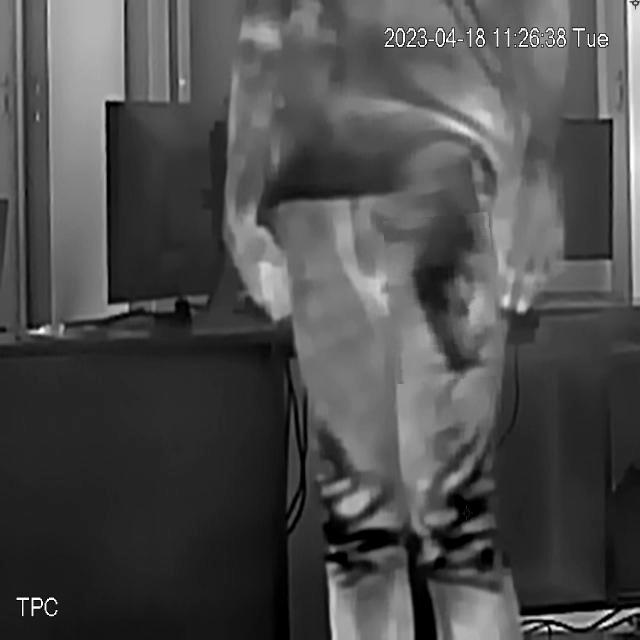Weapon: (387, 214, 499, 382)
